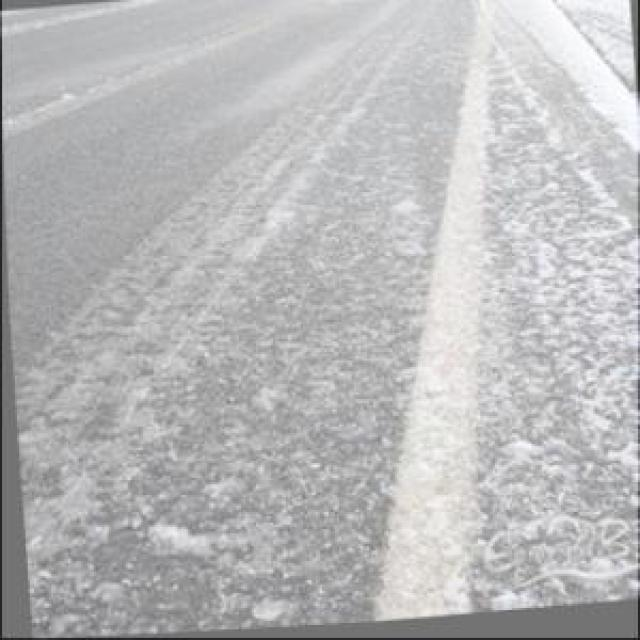ice-road: (4, 0, 638, 638)
